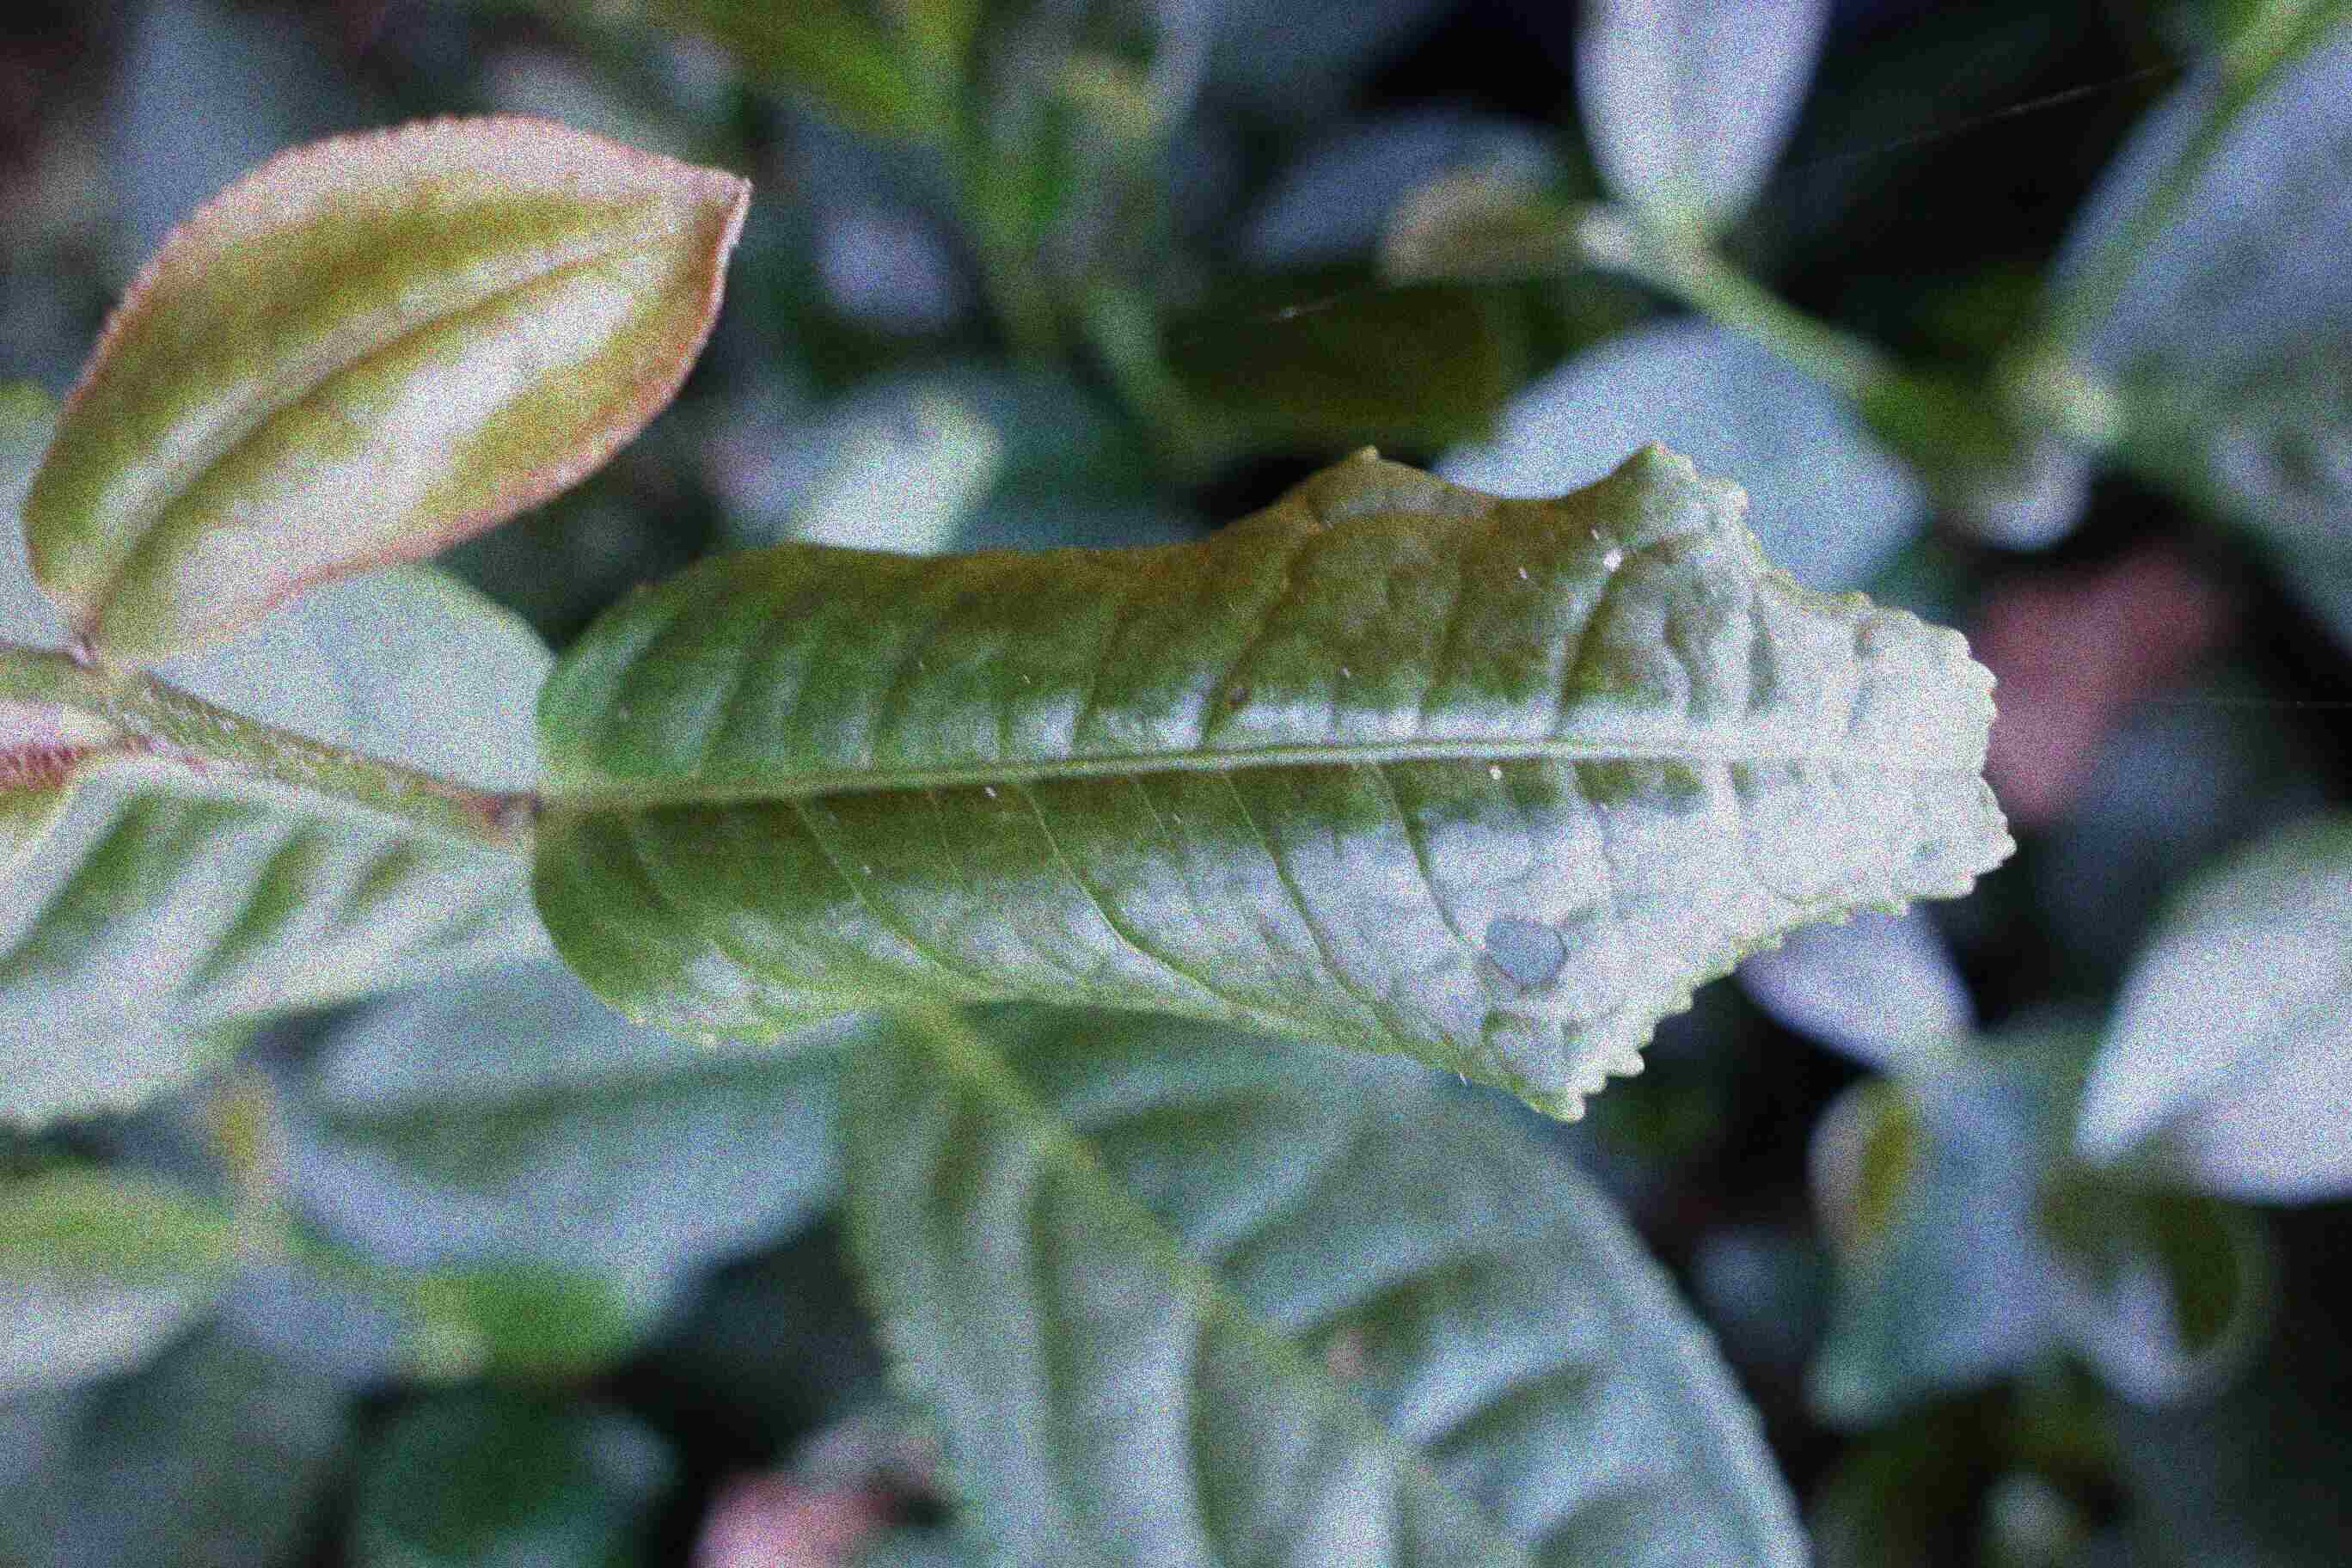chihuo_low: (530, 436, 2018, 1122)
tanju_low: (26, 110, 745, 670)
